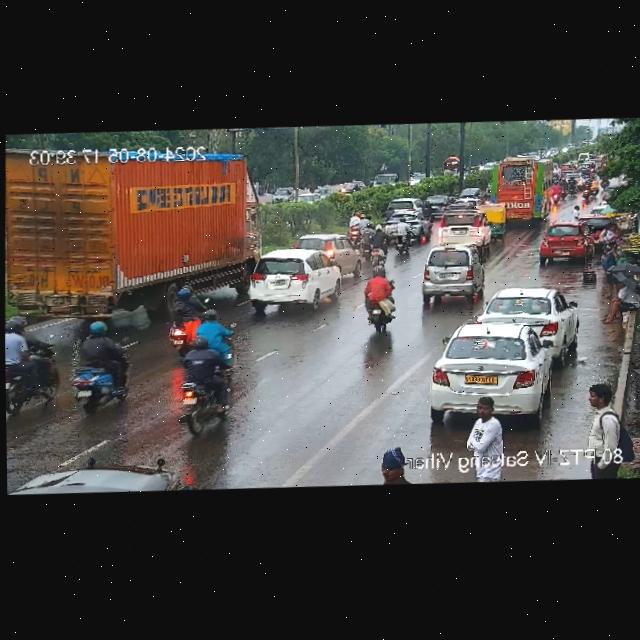bus: (478, 155, 559, 224)
car: (424, 320, 566, 420), (239, 248, 342, 310), (18, 462, 192, 495), (482, 284, 573, 346), (418, 244, 485, 302), (290, 230, 366, 277), (429, 210, 498, 251), (538, 222, 594, 260), (380, 215, 430, 240), (481, 206, 507, 242), (380, 196, 422, 214), (267, 185, 293, 211), (423, 192, 450, 212), (457, 185, 484, 200), (338, 179, 364, 193)
motorcycle: (5, 316, 55, 417), (177, 307, 234, 379), (344, 212, 374, 246), (385, 218, 413, 254), (371, 223, 385, 266), (564, 171, 578, 197), (579, 176, 593, 201)
person: (576, 383, 621, 455), (458, 397, 508, 455), (597, 274, 640, 326), (361, 266, 395, 331), (378, 445, 410, 484)
truck: (2, 142, 256, 326), (366, 162, 408, 188), (439, 156, 460, 177)
